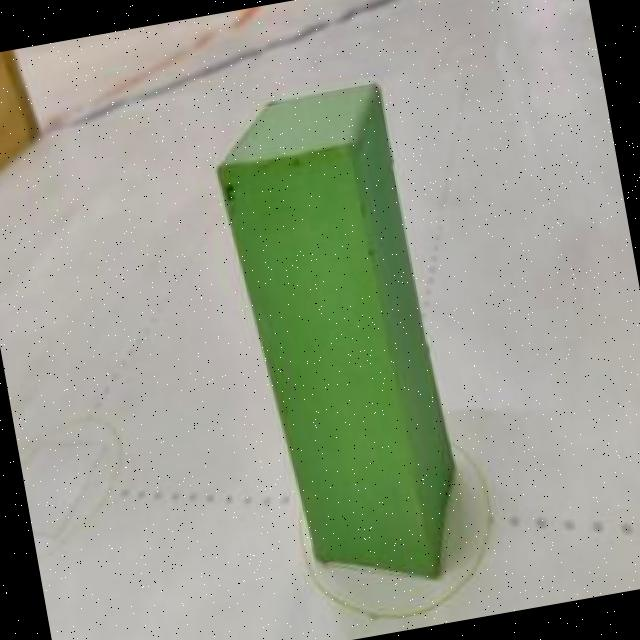greenbox: (202, 72, 476, 610)
